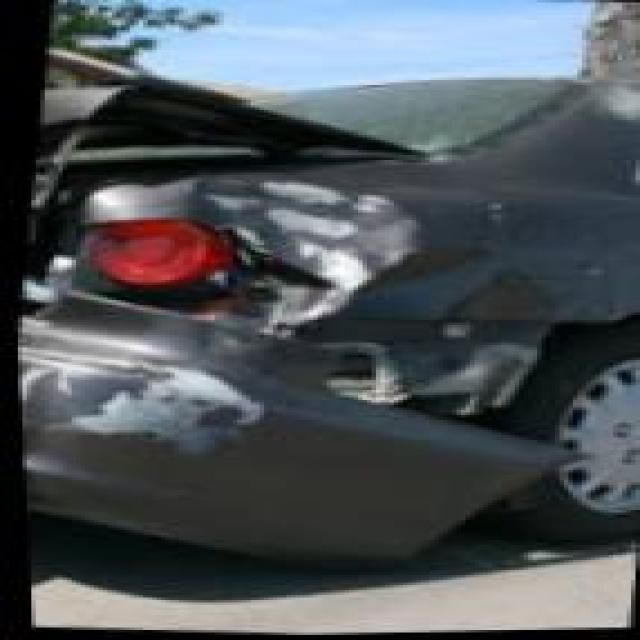Bumper: (13, 295, 570, 579)
Dickey: (13, 88, 435, 315)
Fender: (147, 151, 610, 343)
Light: (55, 217, 254, 296)
Windshield: (232, 84, 578, 157)
